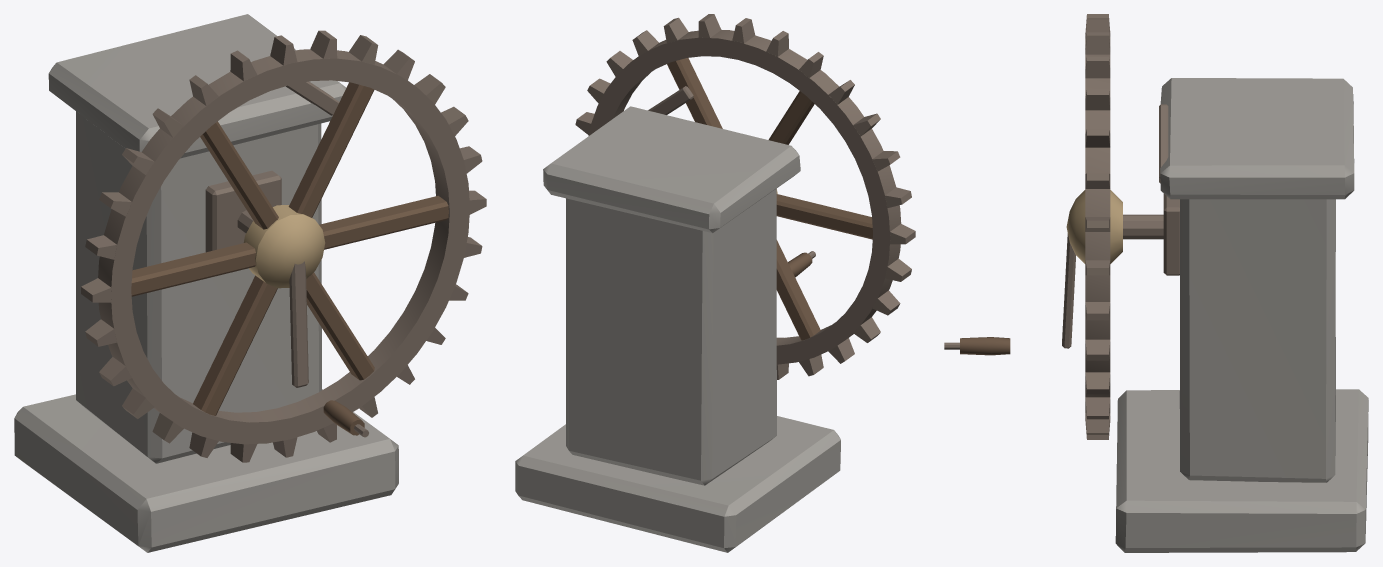
The model's file is crank_wheel.glb.
The picture shows the model from 3 angles, left to right: view 1: azimuth 30°, elevation 25°; view 2: azimuth 150°, elevation 25°; view 3: azimuth 270°, elevation 25°; orthographic projection. The views are drawn at different scales.
Parts seen in each view (by area): view 1: crank_wheel, crank_wheel_rotor; view 2: crank_wheel, crank_wheel_rotor; view 3: crank_wheel, crank_wheel_rotor.
Boxes of the visible parts, x1=… form: crank_wheel: x1=14, y1=14, x2=398, y2=552; crank_wheel_rotor: x1=81, y1=30, x2=486, y2=462; crank_wheel: x1=515, y1=86, x2=840, y2=552; crank_wheel_rotor: x1=575, y1=14, x2=915, y2=379; crank_wheel: x1=1115, y1=78, x2=1368, y2=552; crank_wheel_rotor: x1=944, y1=14, x2=1122, y2=439.
Bounding box in the file's own units: 1.36 × 1.63 × 1.35.
